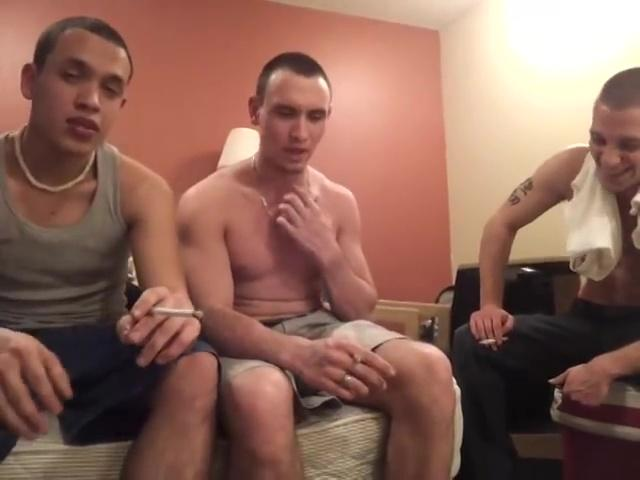cigarette: (146, 306, 206, 320), (478, 334, 509, 346), (353, 351, 365, 365)
